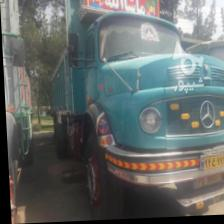plate: (191, 173, 222, 190), (198, 155, 224, 172)
